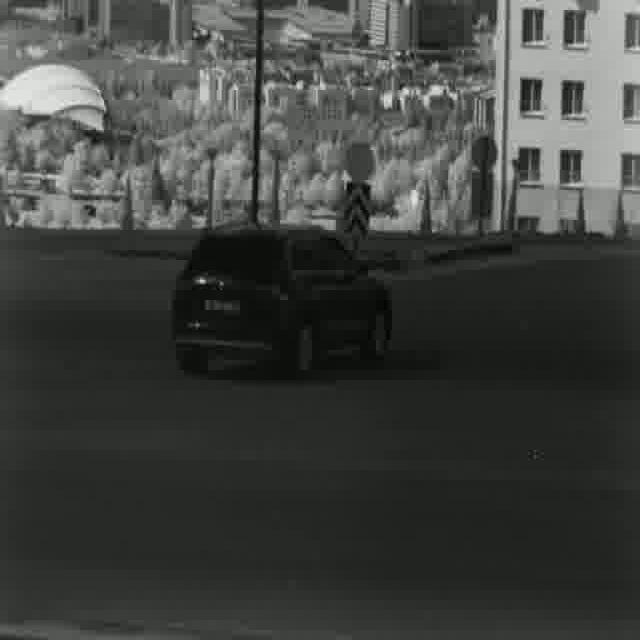Car: (168, 223, 390, 372)
